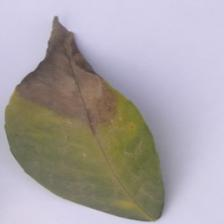black spot: (6, 16, 135, 136)
